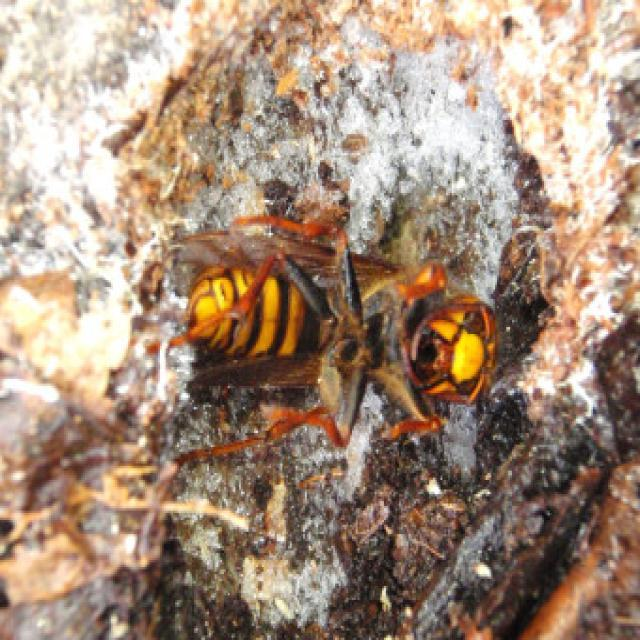Wasp: (150, 174, 492, 462)
